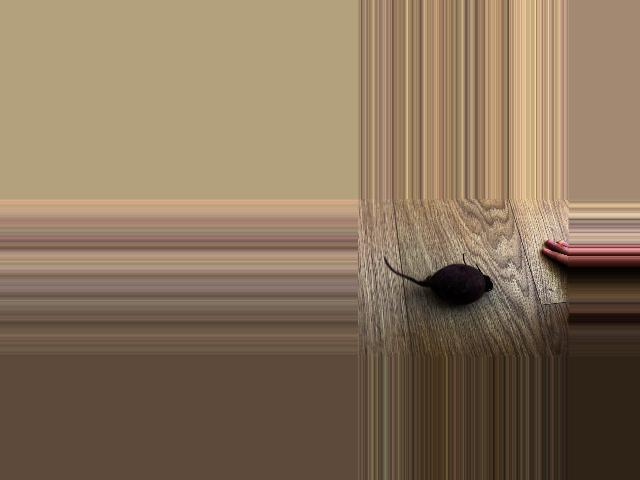beet: (383, 253, 491, 304)
